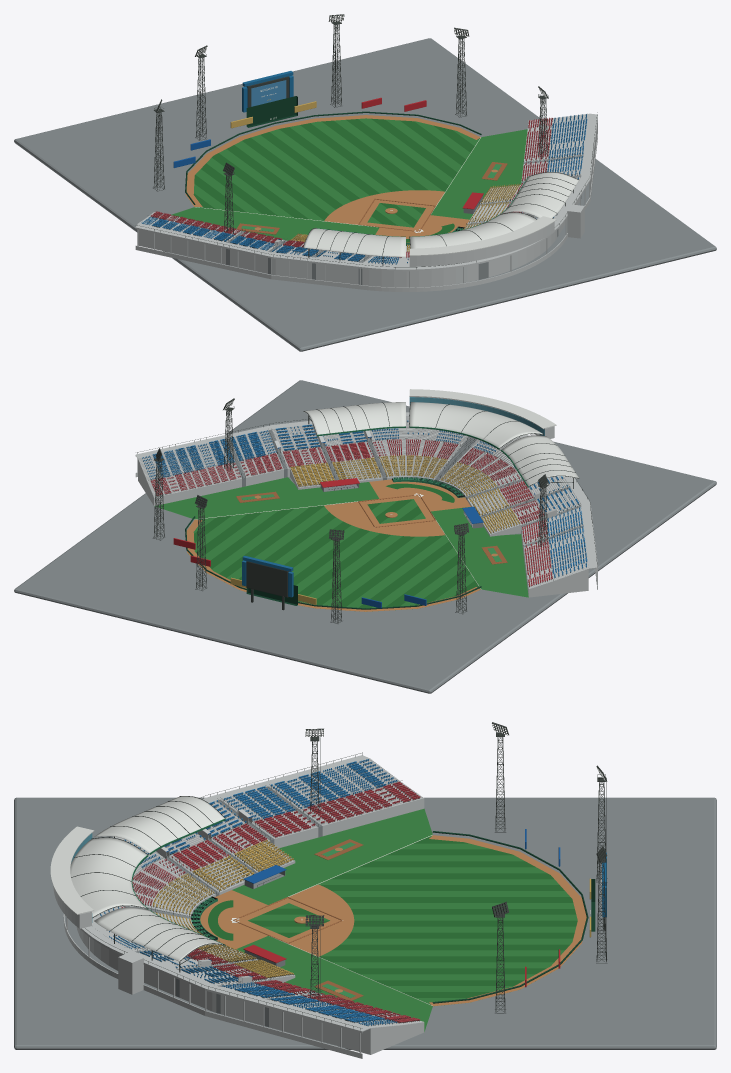
File: estadio-quisqueya-pre-sunken-dugout-20260907.glb
3 views of the same model, one above another, from view 1: azimuth 30°, elevation 25°; view 2: azimuth 150°, elevation 25°; view 3: azimuth 270°, elevation 25° (orthographic). The views are drawn at different scales.
Parts seen in each view (by area): view 1: stadium_site, field_grass, field_apron_home_backstop, section_bleachers_left, grandstand_outer_facade, section_bleachers_right, grandstand_concourse, catalog_seats_2278, infield_clay, roof_panel_right, roof_panel_left, main_grandstand_roof (+20 smaller); view 2: stadium_site, field_grass, field_apron_home_backstop, section_palco_aa, section_bleachers_right, catalog_seats_2288, catalog_seats_2287, section_palco_a, section_bleachers_left, catalog_seats_2278, main_grandstand_roof, roof_panel_right (+16 smaller); view 3: stadium_site, field_grass, field_apron_home_backstop, section_bleachers_right, section_palco_aa, catalog_seats_2278, catalog_seats_2288, catalog_seats_2287, main_grandstand_roof, section_bleachers_left, roof_panel_left, infield_clay (+20 smaller).
Part boxes in pixels (<box>): stadium_site: <box>14,38,716,351</box>; field_grass: <box>193,118,479,220</box>; field_apron_home_backstop: <box>171,129,527,242</box>; section_bleachers_left: <box>138,217,478,287</box>; grandstand_outer_facade: <box>135,114,597,291</box>; section_bleachers_right: <box>488,113,588,277</box>; grandstand_concourse: <box>136,113,597,269</box>; catalog_seats_2278: <box>141,114,587,251</box>; infield_clay: <box>324,190,444,230</box>; roof_panel_right: <box>501,172,579,218</box>; roof_panel_left: <box>303,228,405,256</box>; main_grandstand_roof: <box>410,212,536,248</box>; stadium_site: <box>14,380,716,693</box>; field_grass: <box>188,505,480,611</box>; field_apron_home_backstop: <box>154,477,528,597</box>; section_palco_aa: <box>147,441,552,597</box>; section_bleachers_right: <box>138,416,468,495</box>; catalog_seats_2288: <box>232,439,547,547</box>; catalog_seats_2287: <box>290,455,520,533</box>; section_palco_a: <box>290,456,520,536</box>; section_bleachers_left: <box>469,437,588,594</box>; catalog_seats_2278: <box>142,430,587,578</box>; main_grandstand_roof: <box>409,402,543,448</box>; roof_panel_right: <box>303,402,405,434</box>; stadium_site: <box>14,797,716,1049</box>; field_grass: <box>316,835,577,1005</box>; field_apron_home_backstop: <box>200,808,432,1031</box>; section_bleachers_right: <box>76,906,402,1054</box>; section_palco_aa: <box>121,783,424,1041</box>; catalog_seats_2278: <box>216,759,397,1026</box>; catalog_seats_2288: <box>121,808,324,997</box>; catalog_seats_2287: <box>153,839,293,978</box>; main_grandstand_roof: <box>70,837,147,918</box>; section_bleachers_left: <box>123,758,402,878</box>; roof_panel_left: <box>94,796,224,853</box>; infield_clay: <box>236,884,354,956</box>.
Size of the model in its own units: 233 by 45.97 by 250.
